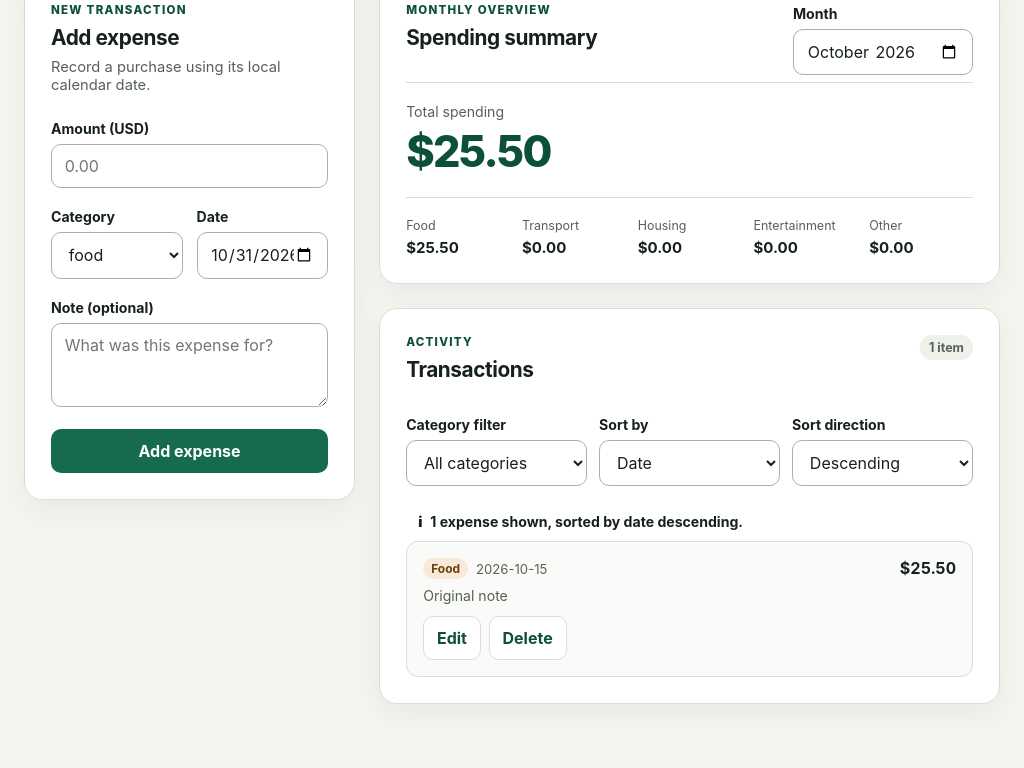
Test: edit amount validation › AMOUNT-001: accepts 1 using the add parser and preserves identity
(page scrolled)
Step 1. Click the button with aria-label "Edit expense" → [452, 638], box [423, 616, 481, 660]
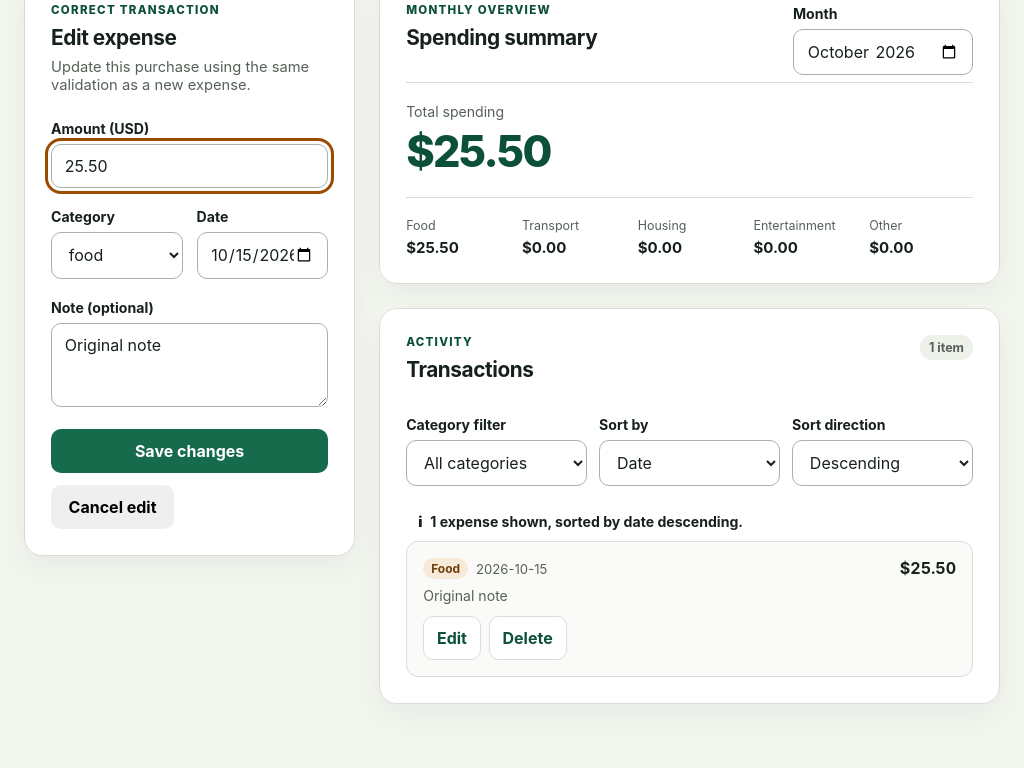
Result: the heading "Edit expense" is shown at [51, 25, 176, 50]
Result: the field labelled "Amount (USD)" holds "25.50"
Result: the date field labelled "Date" holds "2026-10-15" at [197, 232, 328, 278]
Step 2. Replace the text in the field labelled "Amount (USD)" with "1" → [190, 166], box [51, 144, 328, 188]
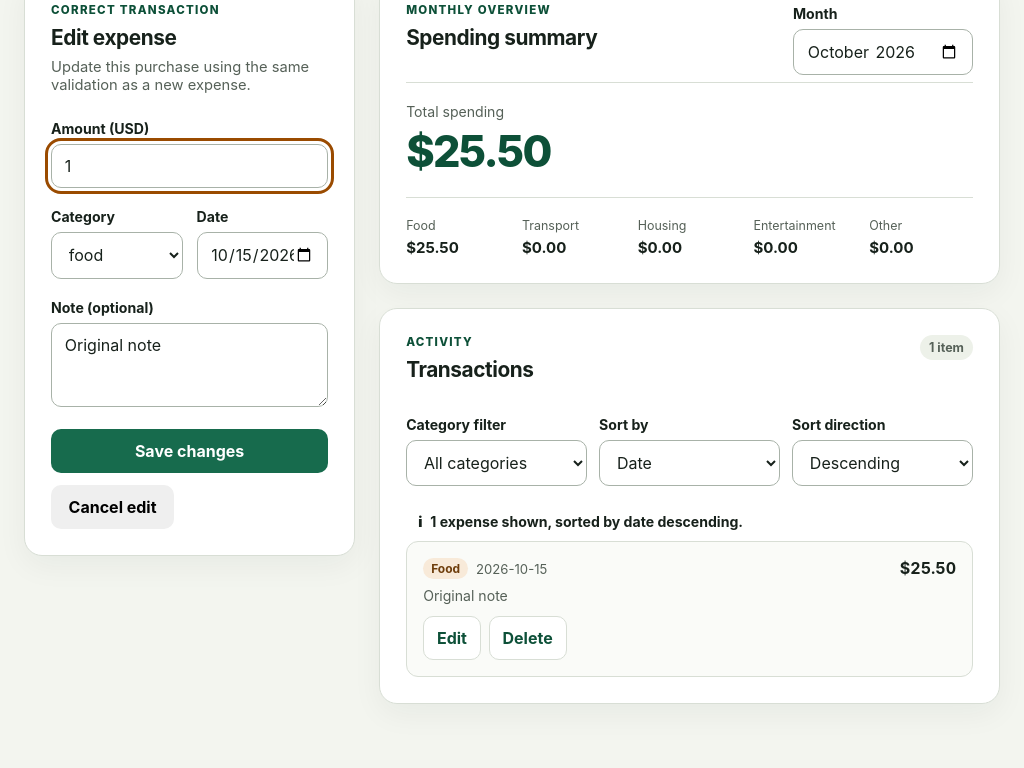
Step 3. Click the button "Save changes" → [190, 451], box [51, 429, 328, 473]
(page scrolled)
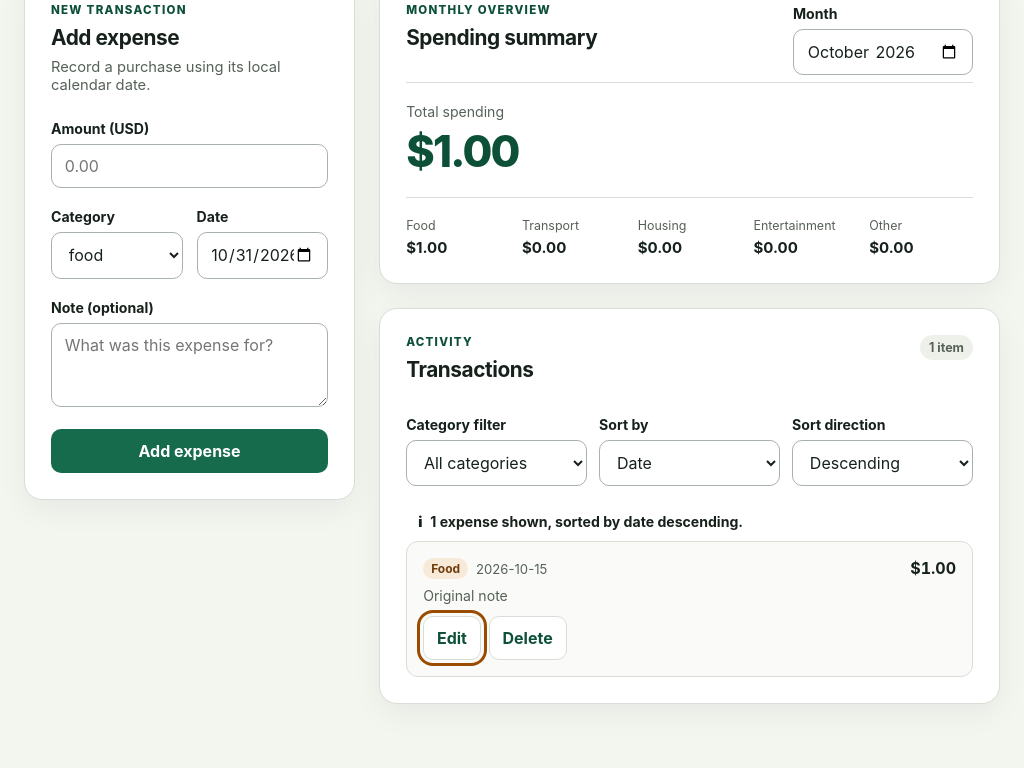
Result: the list item "food 2026-10-15 $1.00 Original note Edit Delete" is shown at [406, 541, 973, 677]
Result: the text named "Monthly total" reads "$1.00" at [406, 125, 519, 177]
